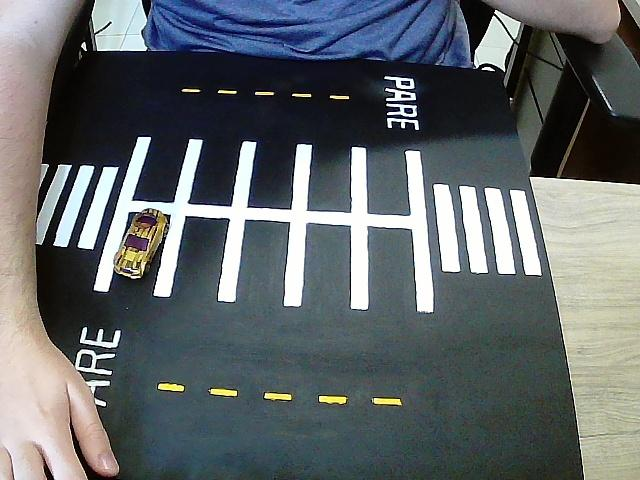Carro: (114, 209, 168, 281)
